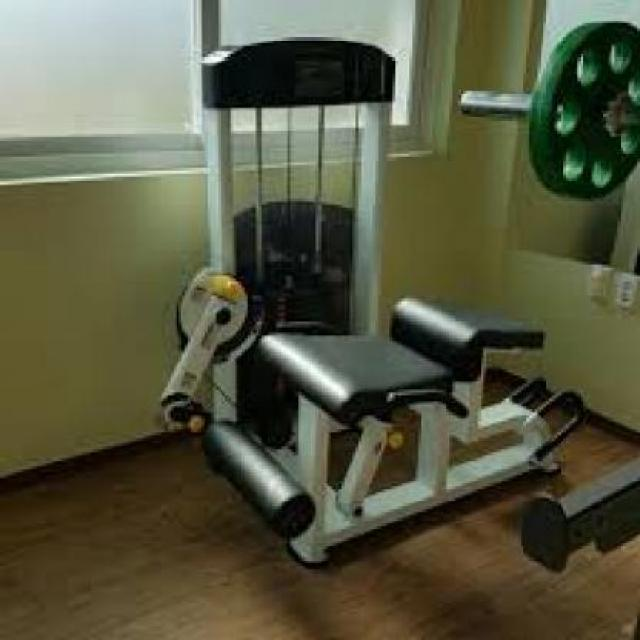reg curl machine: (152, 36, 594, 564)
